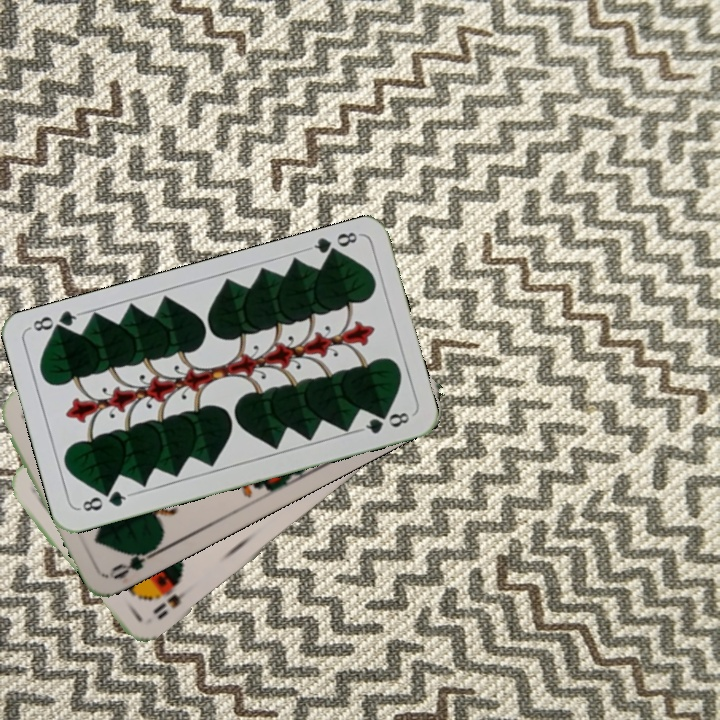G8: (304, 227, 362, 262), (75, 486, 133, 514)
GO: (106, 543, 163, 582)
SO: (148, 581, 197, 623)
